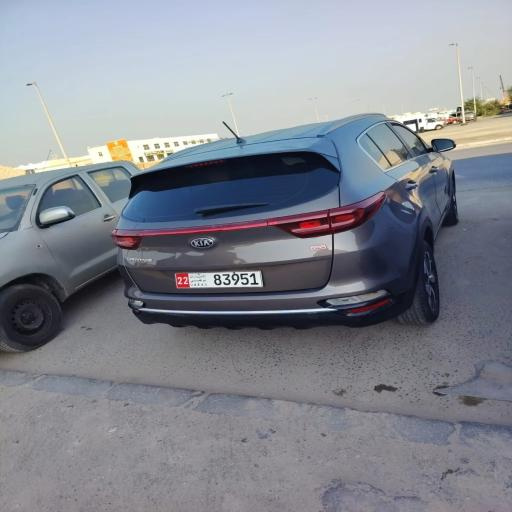license-plates: (175, 271, 263, 288)
